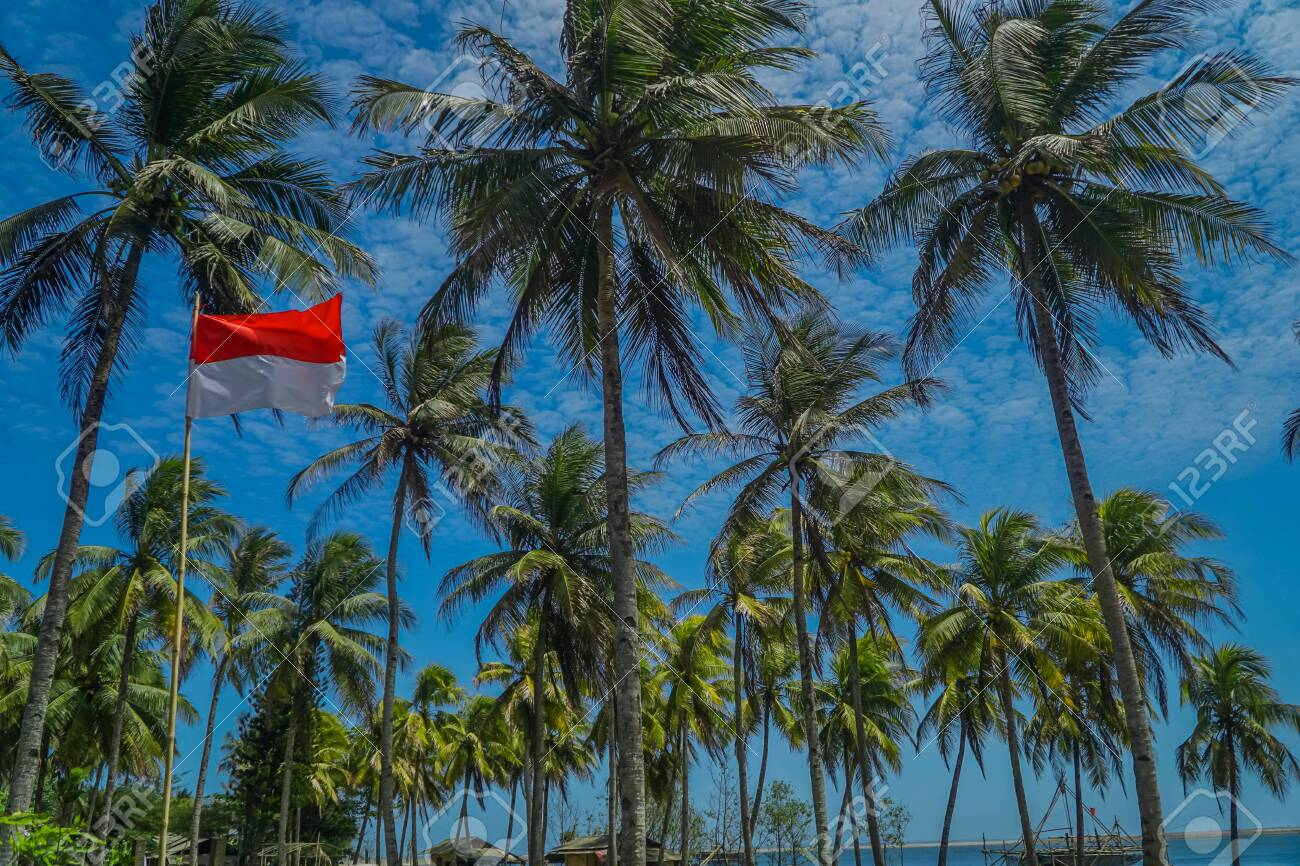Flag: (179, 300, 359, 424)
